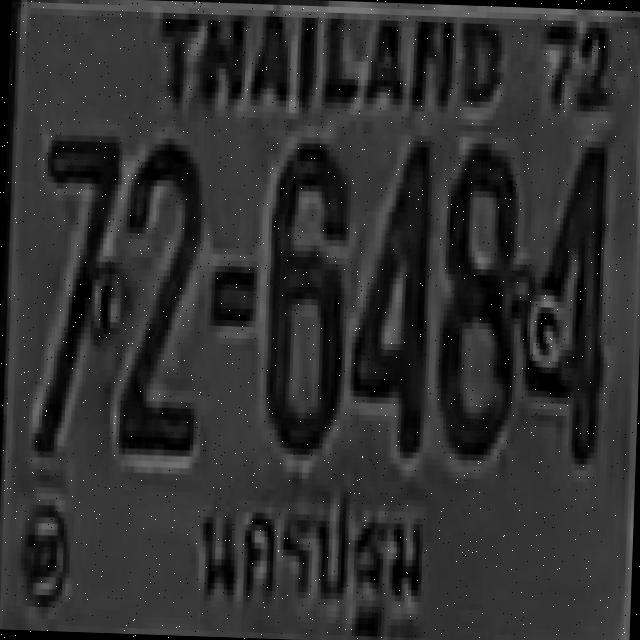2: (114, 134, 202, 454)
4: (520, 132, 610, 458), (348, 133, 433, 452)
6: (261, 136, 349, 450)
7: (32, 128, 118, 453)
8: (433, 136, 519, 455)
NakhonPathom: (185, 468, 433, 640)
